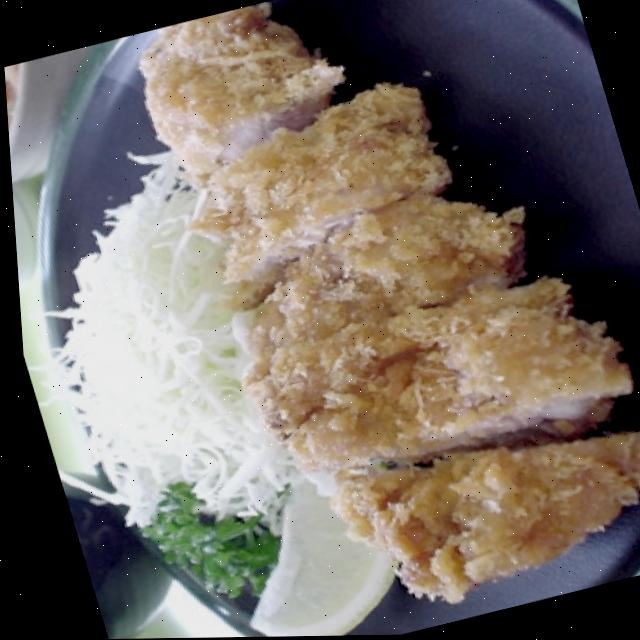鸡肉料理 含炸鸡: (57, 0, 640, 639)
